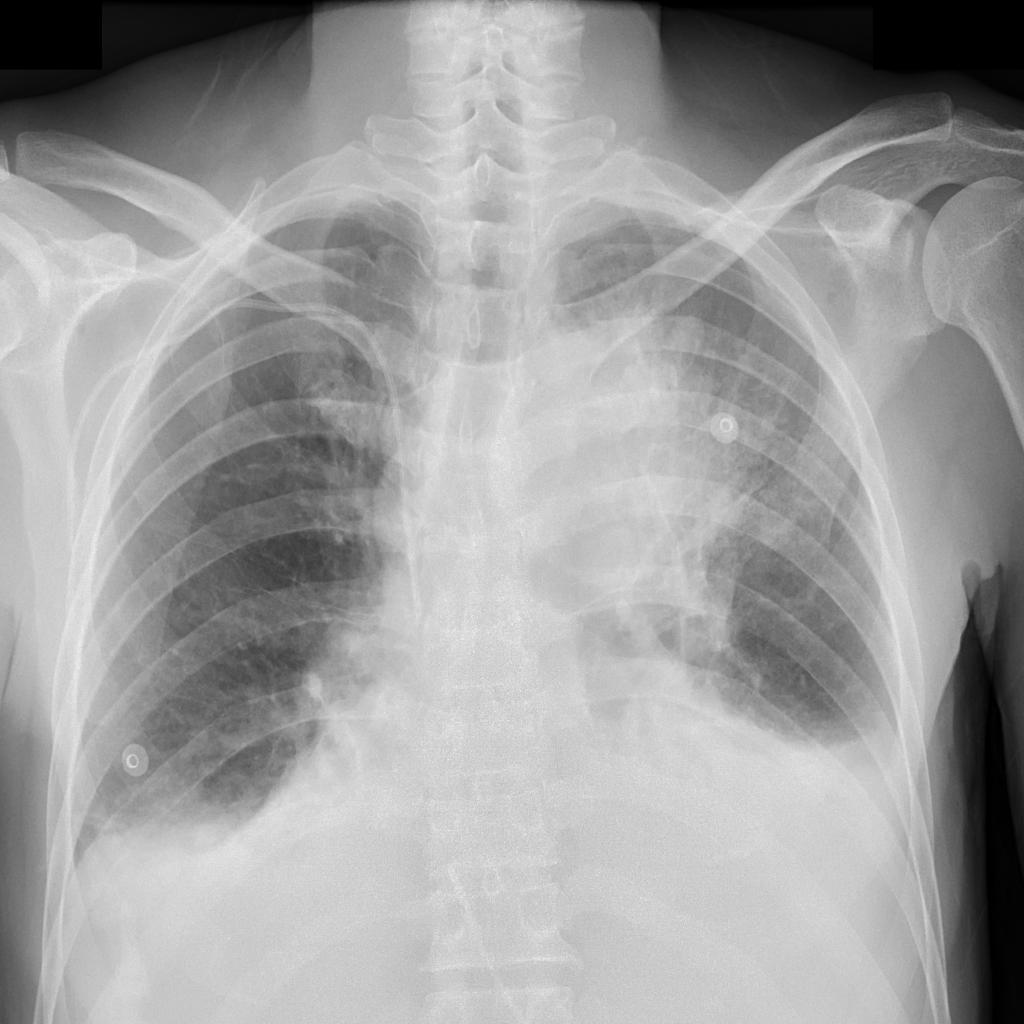Nodule: (479, 326, 723, 575)
